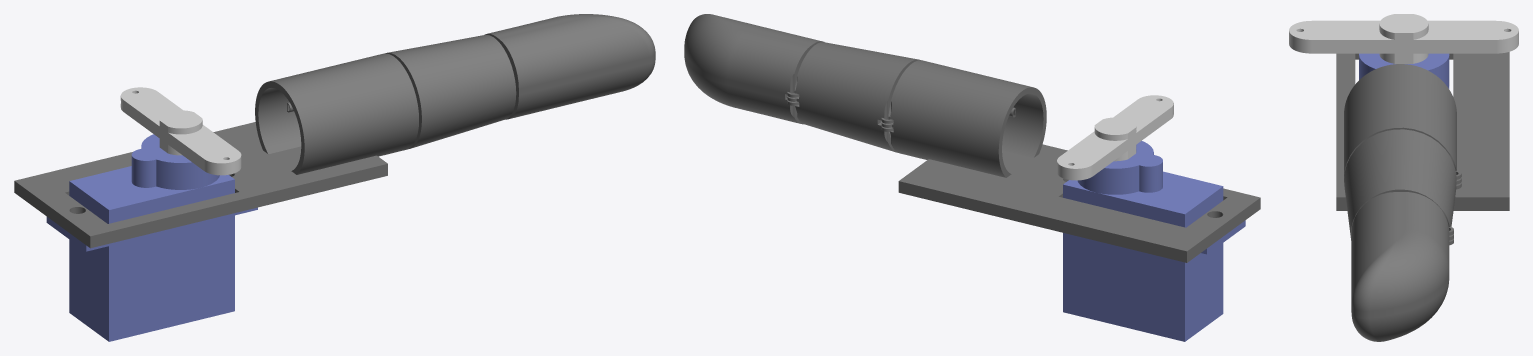
Rendered from finger.glb.
3 views of the same model, side by side, from view 1: azimuth 30°, elevation 25°; view 2: azimuth 150°, elevation 25°; view 3: azimuth 270°, elevation 25° (orthographic). The views are drawn at different scales.
Visible parts, largest first — view 1: servo, finger_1, plane, finger_3, finger_2, servo_white; view 2: servo, plane, finger_1, finger_3, finger_2, servo_white; view 3: finger_3, plane, servo_white, finger_1, finger_2, servo.
Part boxes in pixels (x1,y1,x2,y2): servo: (46,134,257,341); finger_1: (255,53,418,174); plane: (14,122,387,248); finger_3: (484,14,655,119); finger_2: (385,34,516,148); servo_white: (120,87,241,175); servo: (1063,141,1245,341); plane: (898,144,1260,262); finger_1: (881,60,1046,177); finger_3: (684,14,824,124); finger_2: (787,42,920,152); servo_white: (1057,95,1173,180); finger_3: (1351,192,1453,341); plane: (1336,52,1509,210); servo_white: (1289,14,1518,63); finger_1: (1344,64,1461,184); finger_2: (1344,129,1461,240); servo: (1359,53,1449,88).
Size of the model in its own units: 8.17 by 2.68 by 2.47.
